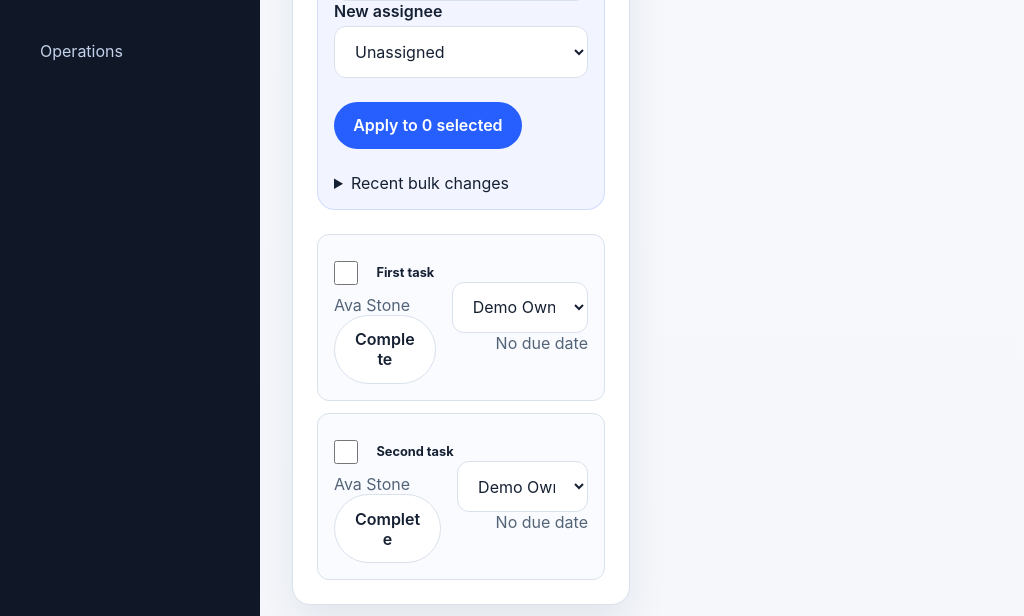
tasks flow › keeps a delayed task-form save from replacing a newer task visit
(page scrolled)
Click the button "First task": {"x": 399, "y": 273} left=370, top=251, right=428, bottom=295
(page scrolled)
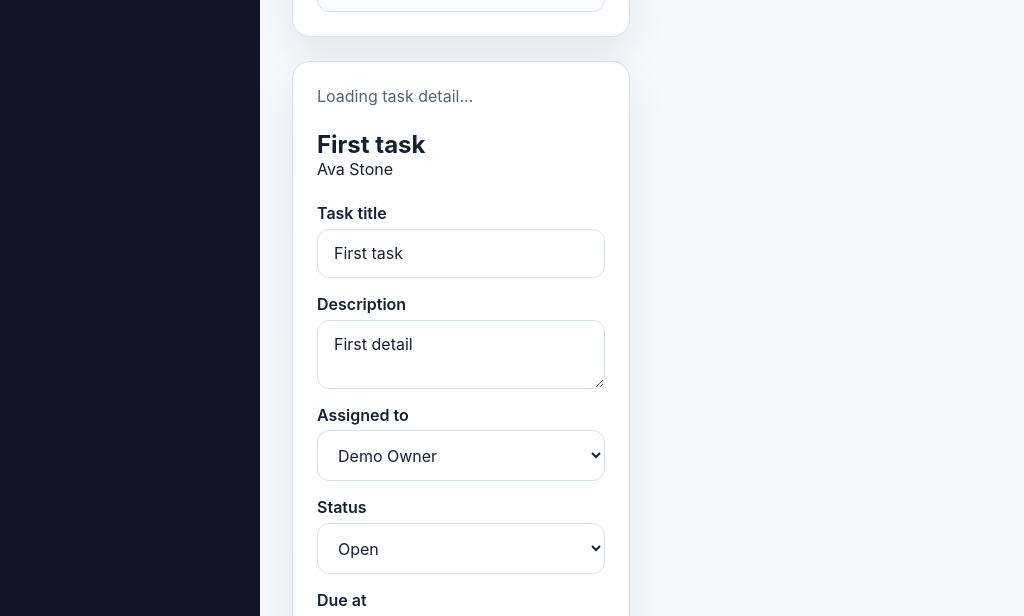
Expected: the heading "First task" is shown, left=317, top=130, right=426, bottom=159
Replace the text in the field labelled "Task title" with "First edited": {"x": 461, "y": 253} left=317, top=229, right=605, bottom=278
(page scrolled)
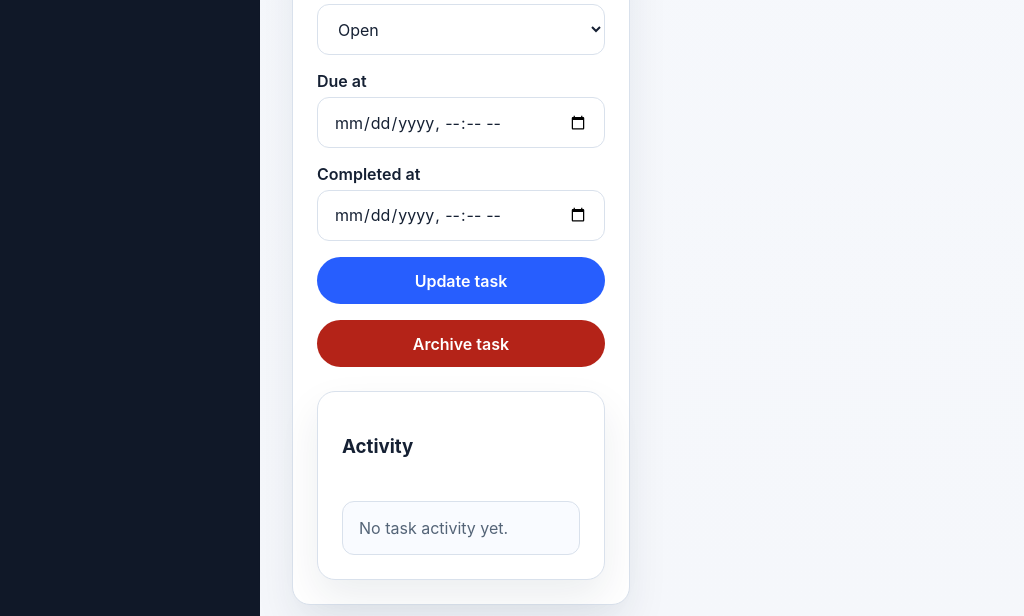
Click the button "Update task": {"x": 461, "y": 281} left=317, top=257, right=605, bottom=304
(page scrolled)
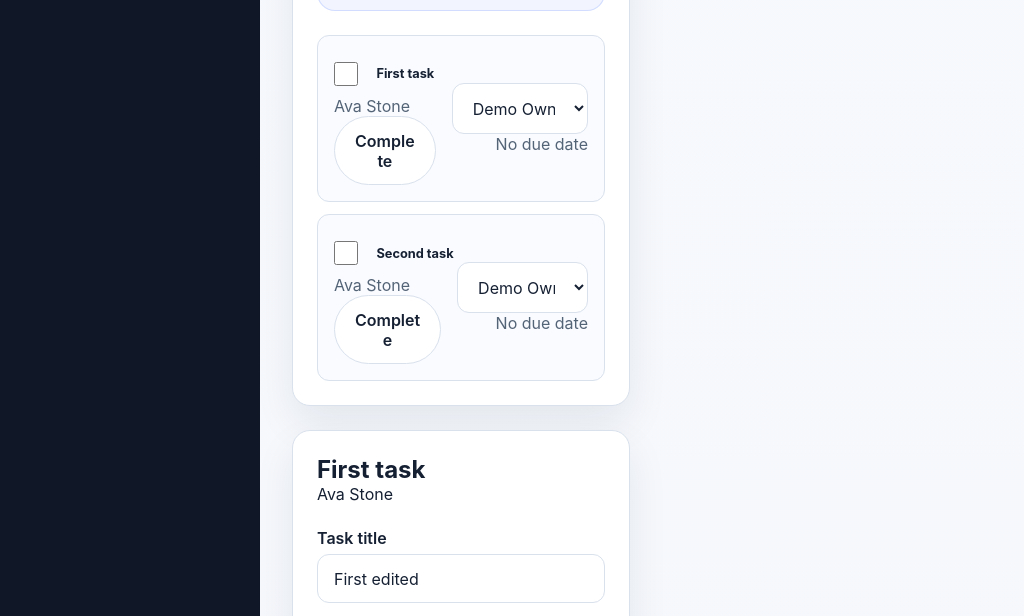
Click the button "Second task": {"x": 402, "y": 253} left=370, top=231, right=433, bottom=275
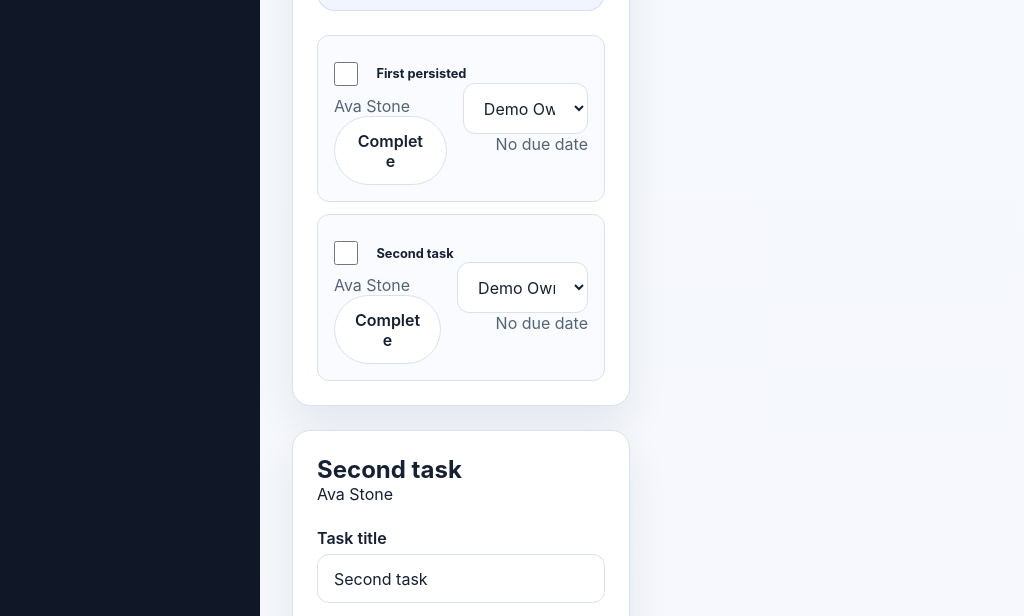
Expected: the button "First persisted" is shown, left=370, top=52, right=439, bottom=96
Expected: the heading "Second task" is shown, left=317, top=455, right=462, bottom=484
